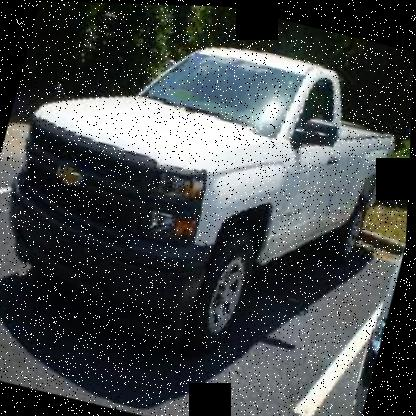not_emergency: (0, 0, 415, 388)
